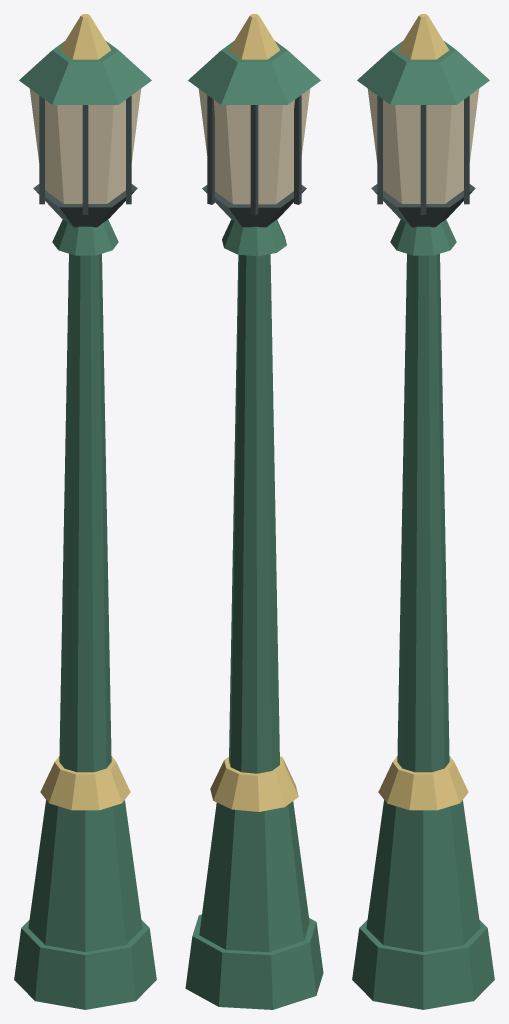
File: Paris_StreetLamp.fbx
The picture shows the model from 3 angles, left to right: view 1: azimuth 90°, elevation 25°; view 2: azimuth 150°, elevation 25°; view 3: azimuth 270°, elevation 25°; orthographic projection.
Visible parts, largest first — view 1: Paris_StreetLamp; view 2: Paris_StreetLamp; view 3: Paris_StreetLamp.
Boxes of the visible parts, x1=… form: Paris_StreetLamp: x1=14, y1=14, x2=156, y2=1009; Paris_StreetLamp: x1=185, y1=14, x2=323, y2=1009; Paris_StreetLamp: x1=352, y1=14, x2=494, y2=1009.
Bounding box in the file's own units: 0.6 × 4.47 × 0.6.
